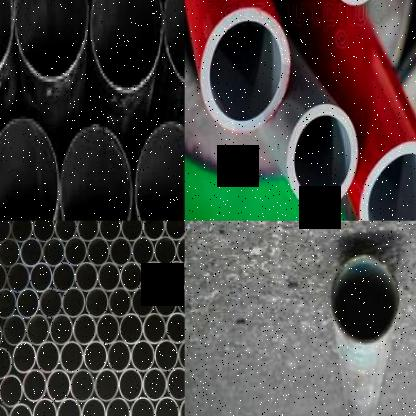pipe: (200, 6, 290, 133), (55, 124, 135, 221), (286, 104, 359, 209), (86, 0, 164, 96), (330, 253, 399, 347), (12, 0, 89, 83), (0, 113, 59, 220), (130, 119, 184, 221), (358, 140, 416, 220), (159, 0, 184, 91), (94, 368, 119, 404), (69, 369, 95, 403), (22, 370, 47, 404), (2, 314, 27, 348), (83, 340, 108, 374), (59, 340, 84, 374), (118, 368, 143, 402), (46, 370, 71, 404), (36, 341, 61, 374), (130, 340, 155, 373), (143, 368, 167, 402), (12, 341, 36, 375), (107, 340, 131, 374), (130, 286, 155, 318), (95, 314, 120, 346), (153, 286, 178, 318), (49, 314, 74, 346), (72, 314, 97, 346), (142, 313, 167, 345), (154, 340, 179, 372), (25, 314, 50, 346), (51, 262, 76, 293), (108, 286, 132, 318), (85, 287, 109, 319), (119, 313, 143, 345), (62, 287, 86, 319), (39, 288, 63, 320), (74, 262, 99, 292), (0, 374, 22, 408), (142, 261, 166, 292), (16, 288, 40, 319), (29, 262, 53, 293), (7, 262, 30, 294), (86, 237, 110, 267), (64, 237, 88, 267), (120, 262, 143, 292), (154, 236, 177, 266), (98, 262, 121, 292), (109, 238, 133, 266), (131, 237, 154, 266), (42, 238, 65, 267), (20, 238, 43, 267), (164, 260, 184, 291), (166, 367, 184, 401), (0, 238, 20, 267), (166, 312, 184, 344), (0, 288, 17, 320), (56, 397, 82, 416), (129, 397, 155, 416), (11, 221, 33, 243), (54, 221, 77, 242), (120, 221, 143, 242), (76, 221, 99, 242), (98, 221, 121, 242), (81, 397, 106, 416), (106, 397, 131, 416), (154, 397, 179, 416), (33, 221, 55, 242), (142, 221, 165, 241), (32, 398, 57, 416), (0, 346, 13, 380), (164, 221, 184, 241), (7, 402, 33, 416), (177, 338, 185, 372), (176, 286, 185, 316), (176, 236, 185, 265), (0, 221, 11, 243), (0, 263, 7, 292), (179, 397, 185, 416), (0, 320, 3, 352)
